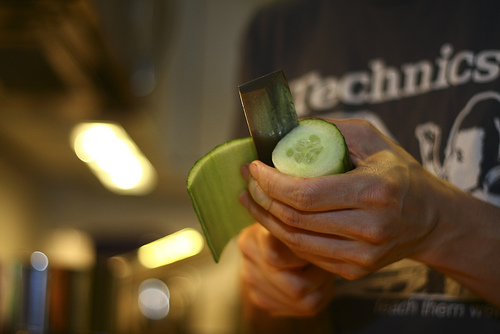cucumber: (187, 117, 349, 262)
